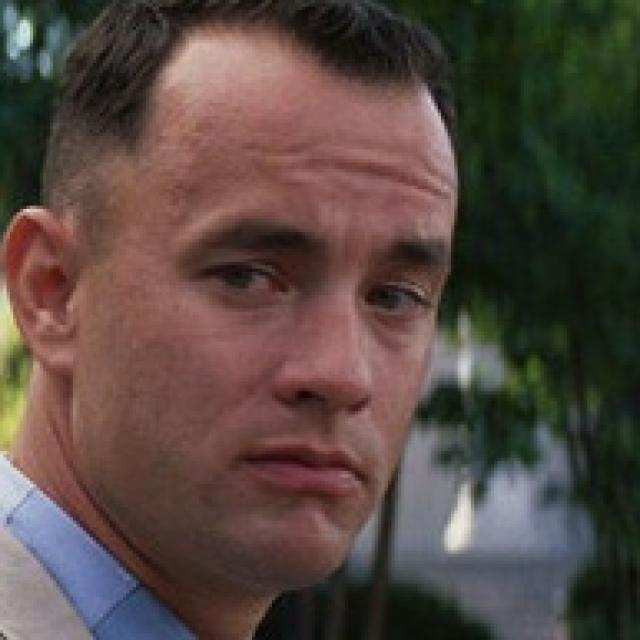Depress: (66, 35, 463, 590)
